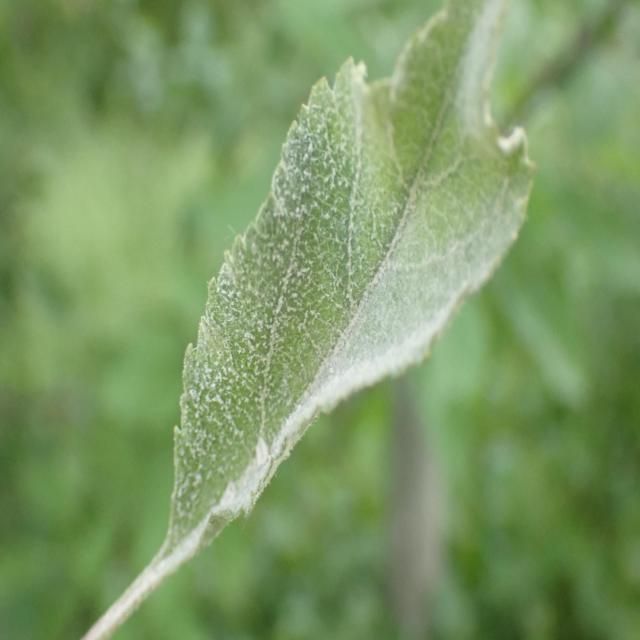Powdery_mildew: (149, 0, 542, 569)
